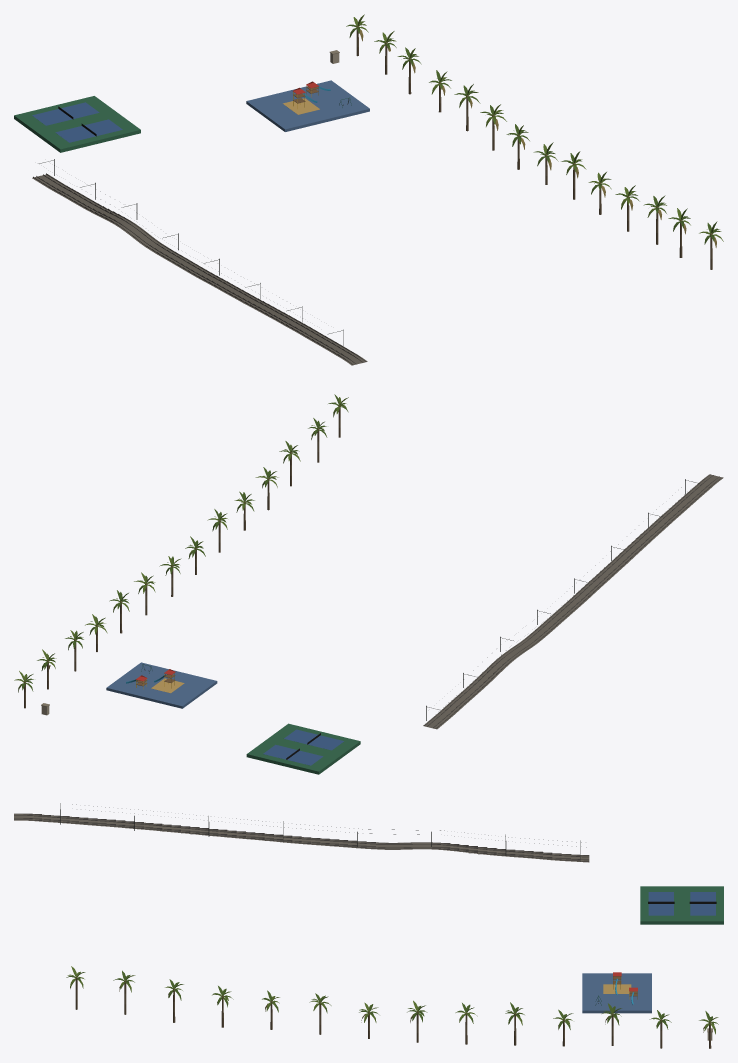
The model's file is doloresPark_lod1.glb.
3 renders of one model, top to bottom at view 1: azimuth 30°, elevation 25°; view 2: azimuth 150°, elevation 25°; view 3: azimuth 270°, elevation 25°, orthographic. The views are drawn at different scales.
Visible parts, largest first — view 1: L1_concrete, L1_leaf, L1_metal, L1_bark; view 2: L1_concrete, L1_metal, L1_leaf, L1_bark; view 3: L1_concrete, L1_metal, L1_leaf, L1_bark.
Part boxes in pixels (bbox=[...]): L1_concrete: bbox=[14, 80, 369, 365]; L1_leaf: bbox=[346, 14, 723, 247]; L1_metal: bbox=[33, 86, 366, 364]; L1_bark: bbox=[356, 25, 712, 269]; L1_concrete: bbox=[106, 474, 723, 774]; L1_metal: bbox=[136, 474, 722, 728]; L1_leaf: bbox=[14, 394, 348, 692]; L1_bark: bbox=[23, 404, 340, 708]; L1_concrete: bbox=[14, 814, 723, 1013]; L1_metal: bbox=[14, 803, 637, 1005]; L1_leaf: bbox=[66, 966, 718, 1034]; L1_bark: bbox=[75, 976, 711, 1048].
Bounding box in the file's own units: 181 × 39.18 × 306.
